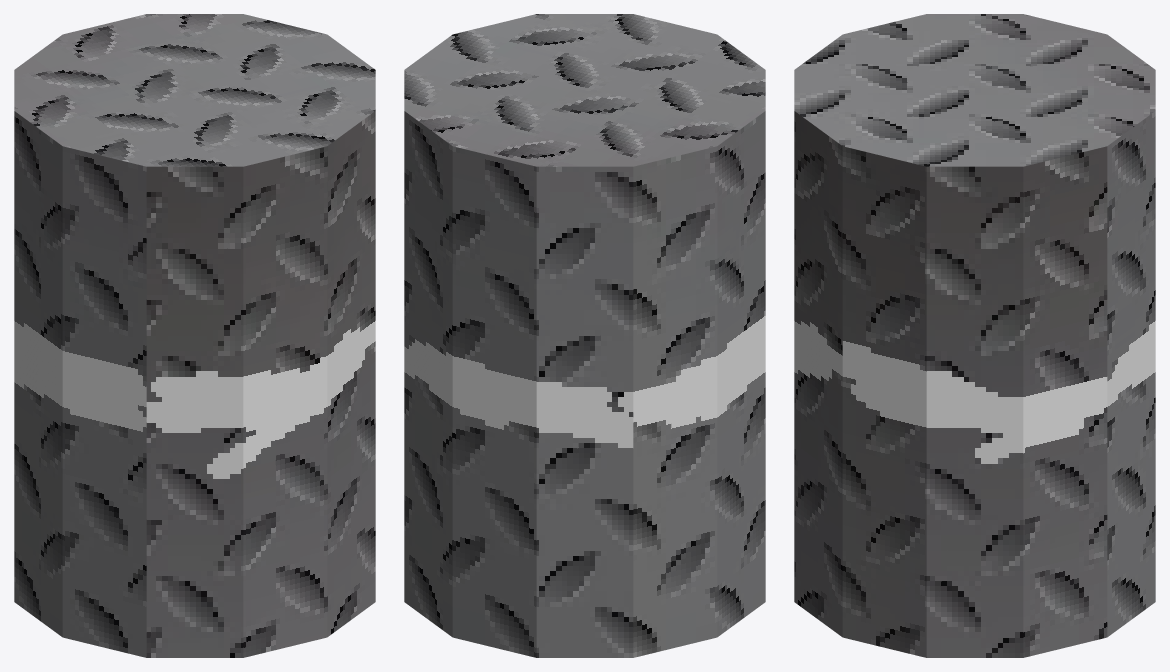
File: barrel.gltf
The picture shows the model from 3 angles, left to right: view 1: azimuth 30°, elevation 25°; view 2: azimuth 150°, elevation 25°; view 3: azimuth 270°, elevation 25°; orthographic projection.
Visible parts, largest first — view 1: cylinder-col; view 2: cylinder-col; view 3: cylinder-col.
Boxes of the visible parts, left/top/right/bottom form: cylinder-col: left=14, top=14, right=375, bottom=657; cylinder-col: left=404, top=14, right=765, bottom=657; cylinder-col: left=794, top=14, right=1155, bottom=657.
Size of the model in its own units: 1 by 1.5 by 1.
1 material, 1 textured.
